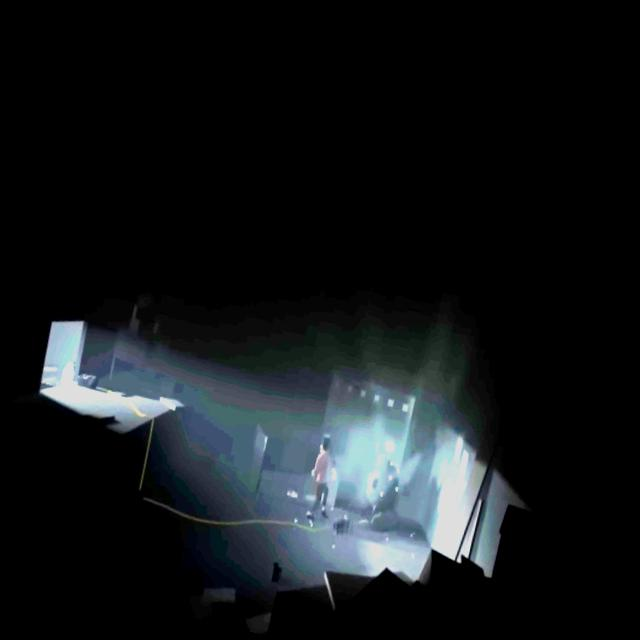boy: (302, 435, 343, 518)
